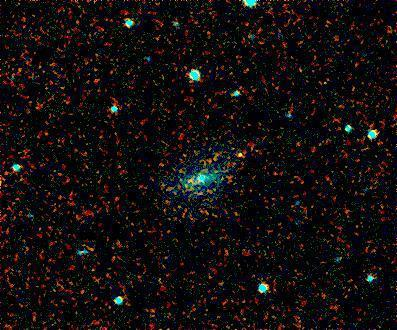star: (225, 140, 255, 170)
